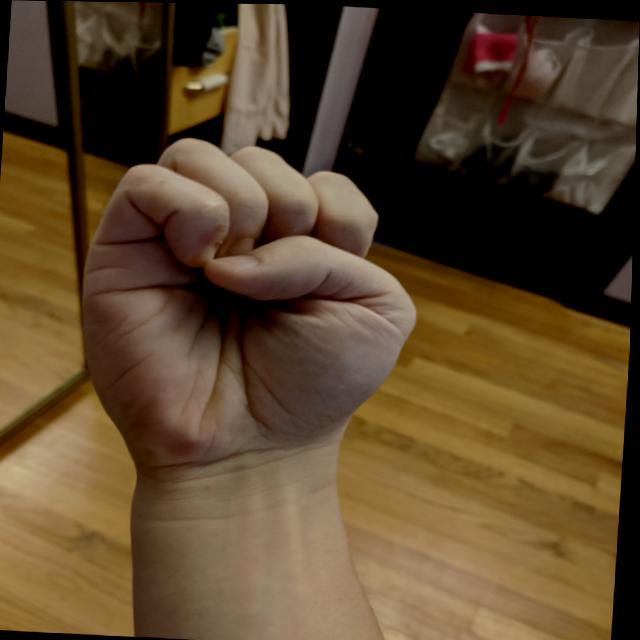E: (62, 127, 438, 492)
